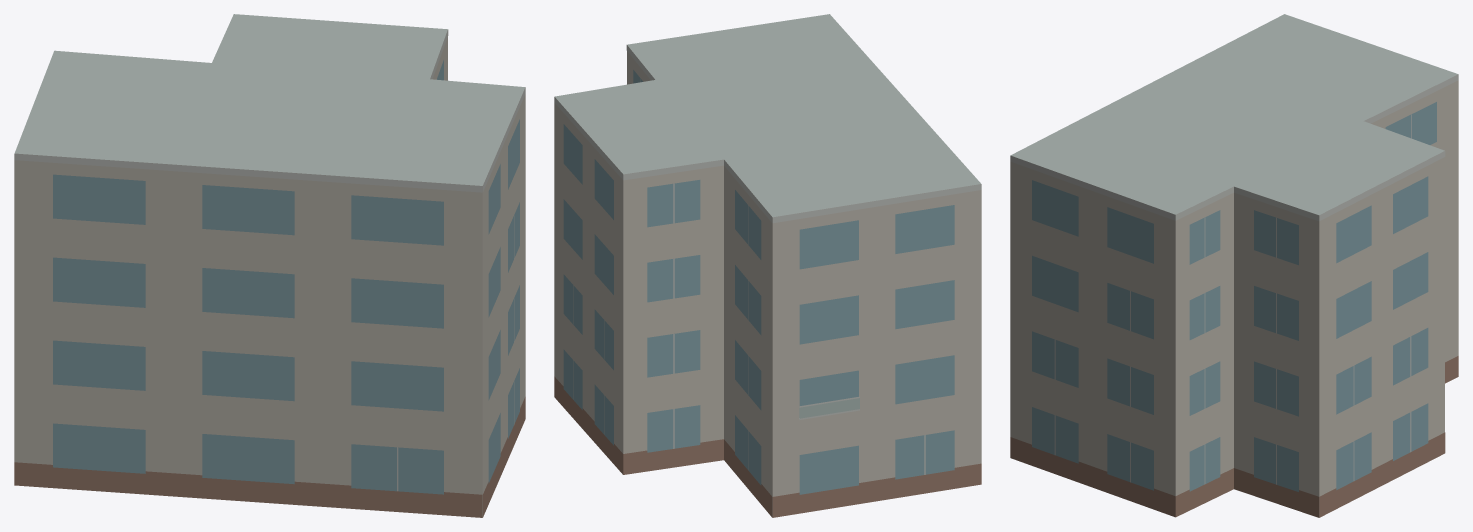
Rendered from survey-upis-32889918.glb.
3 views of the same model, side by side, from view 1: azimuth 30°, elevation 25°; view 2: azimuth 150°, elevation 25°; view 3: azimuth 270°, elevation 25° (orthographic). The views are drawn at different scales.
Parts seen in each view (by area): view 1: survey-upis-32889918.tmp; view 2: survey-upis-32889918.tmp; view 3: survey-upis-32889918.tmp.
Boxes of the visible parts, box(x1,y1,x2,y2) form: survey-upis-32889918.tmp: box(14, 14, 525, 517); survey-upis-32889918.tmp: box(554, 14, 981, 517); survey-upis-32889918.tmp: box(1010, 14, 1458, 517).
Bounding box in the file's own units: 17.42 × 12.2 × 16.39.
